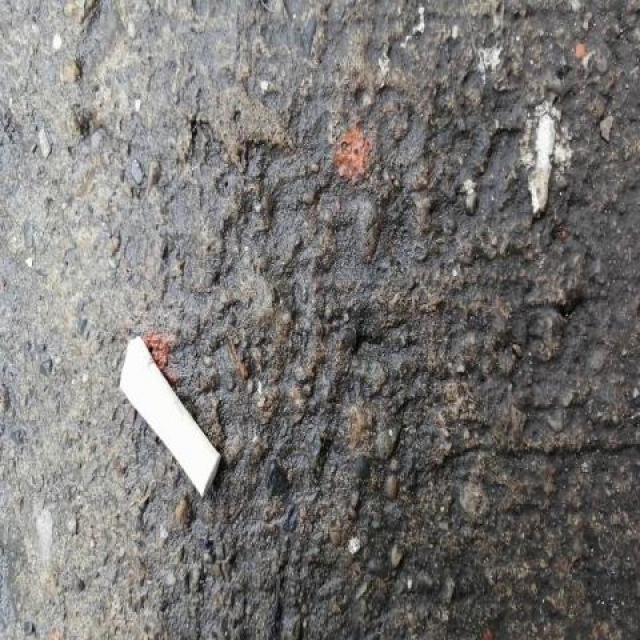non-organic waste: (109, 333, 224, 503)
